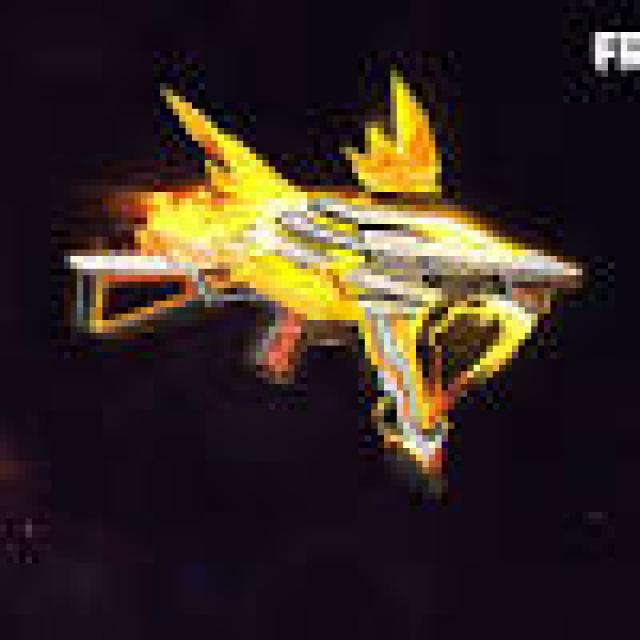Gun: (53, 98, 588, 510)
